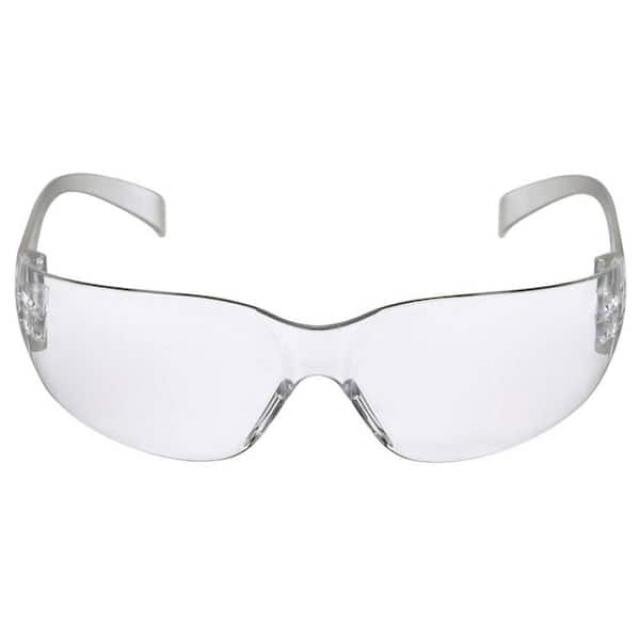Protective Glasses: (1, 117, 640, 551)
